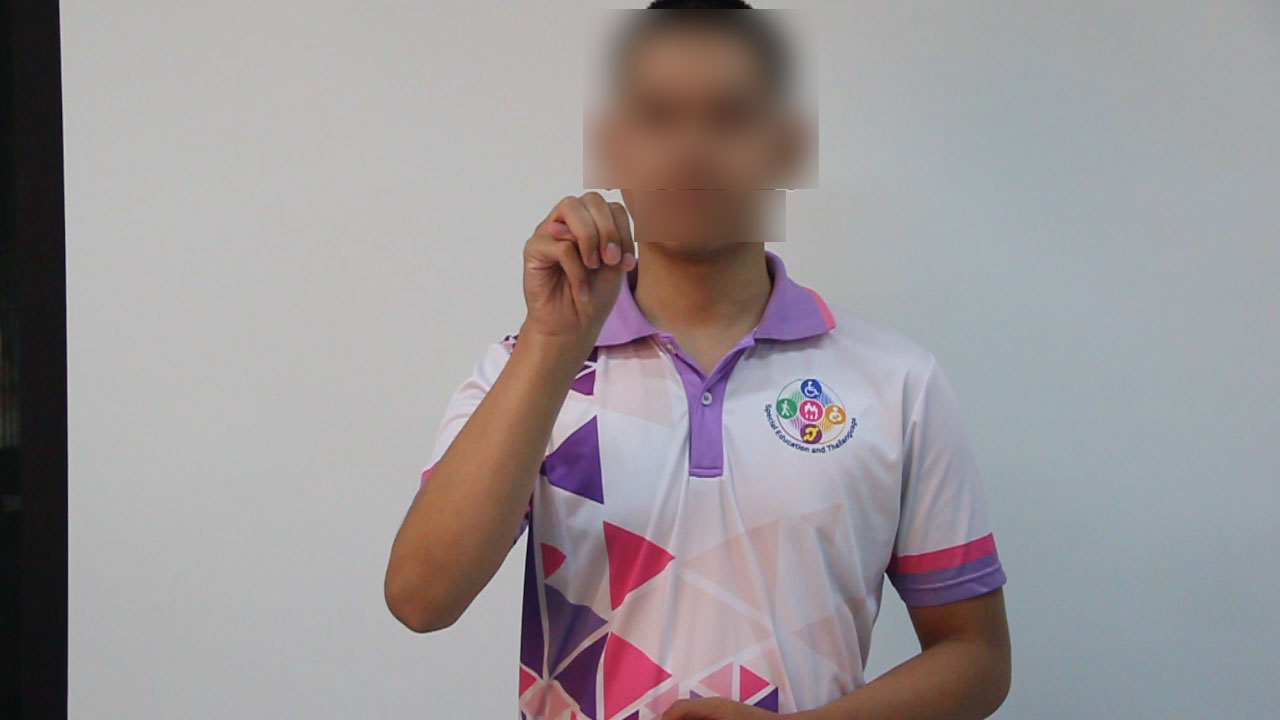mor: (510, 170, 639, 358)
